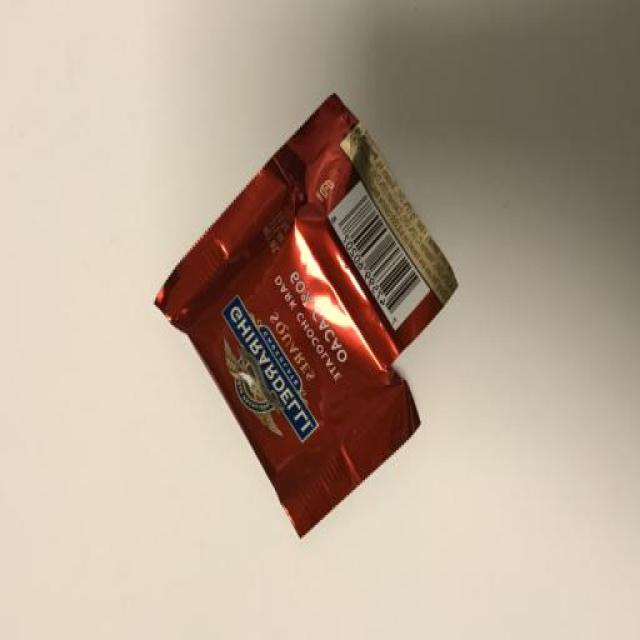Random Trash: (154, 92, 459, 537)
